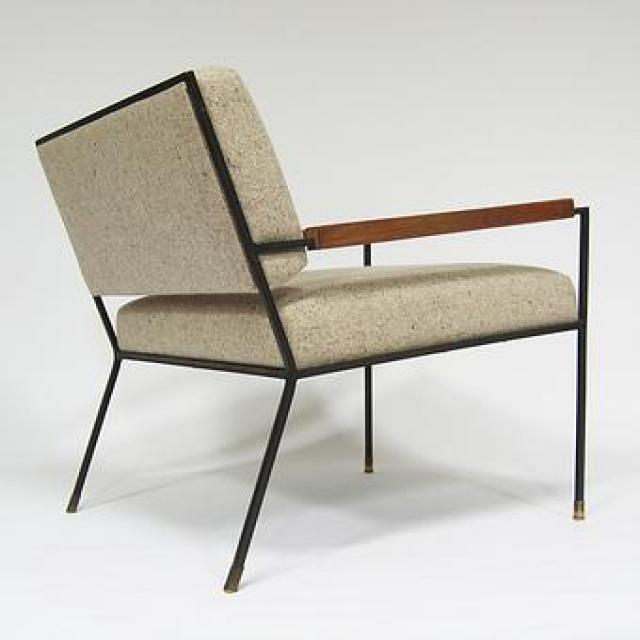chair: (35, 64, 593, 592)
